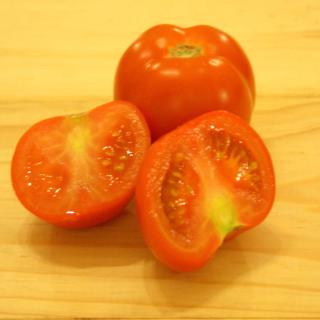tomato: (134, 109, 276, 272), (5, 97, 160, 227), (114, 24, 255, 143)
